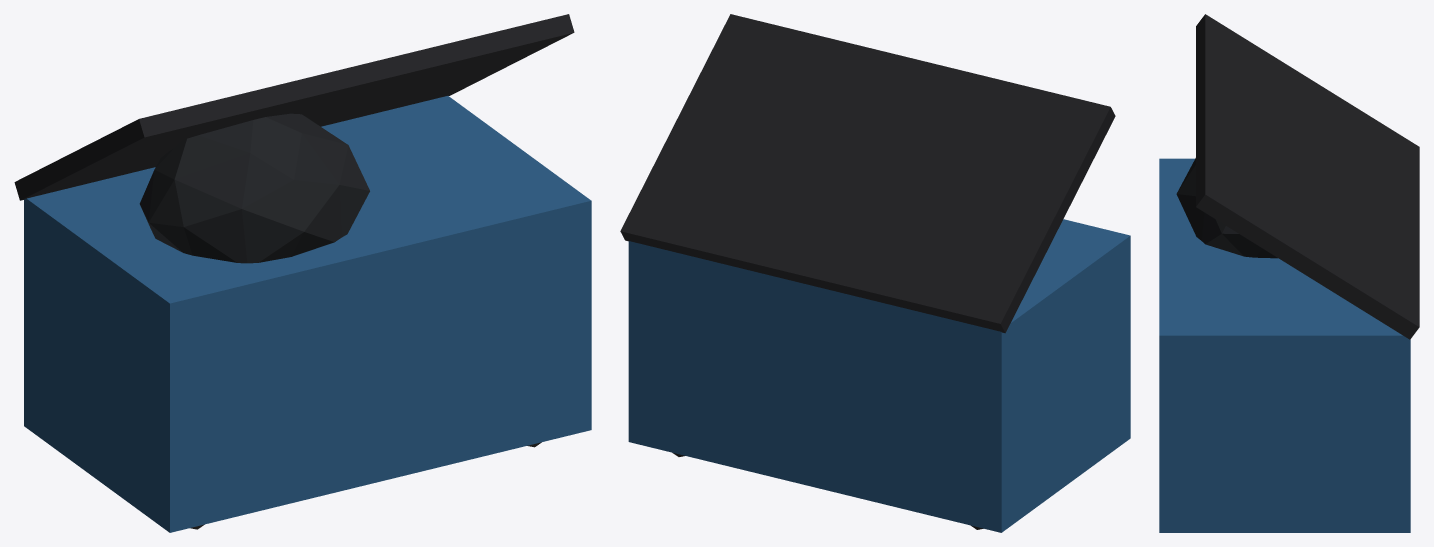
Rendered from dumpster.glb.
The picture shows the model from 3 angles, left to right: view 1: azimuth 30°, elevation 25°; view 2: azimuth 150°, elevation 25°; view 3: azimuth 270°, elevation 25°; orthographic projection. The views are drawn at different scales.
Visible parts, largest first — view 1: dumpster; view 2: dumpster; view 3: dumpster.
Part boxes in pixels (x1,y1,x2,y2): dumpster: (14,14,591,532); dumpster: (620,14,1130,532); dumpster: (1159,14,1419,532).
Size of the model in its own units: 5.1 by 4.68 by 3.11.
